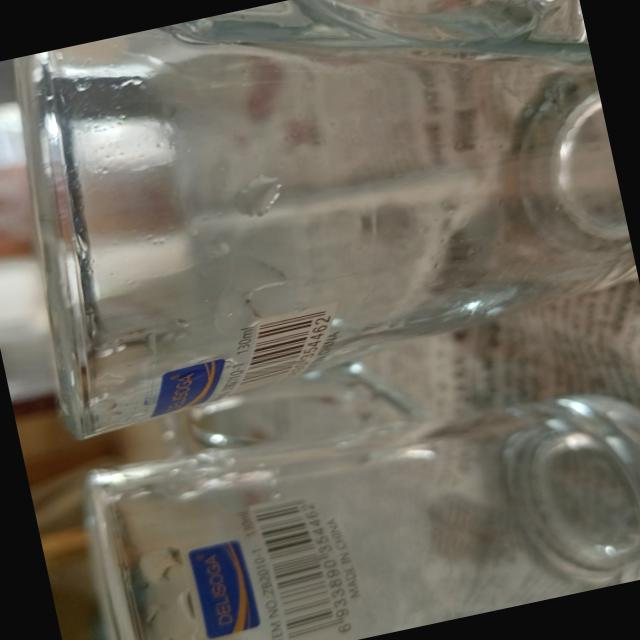glass-VX4N: (0, 0, 640, 444), (51, 287, 640, 640)
